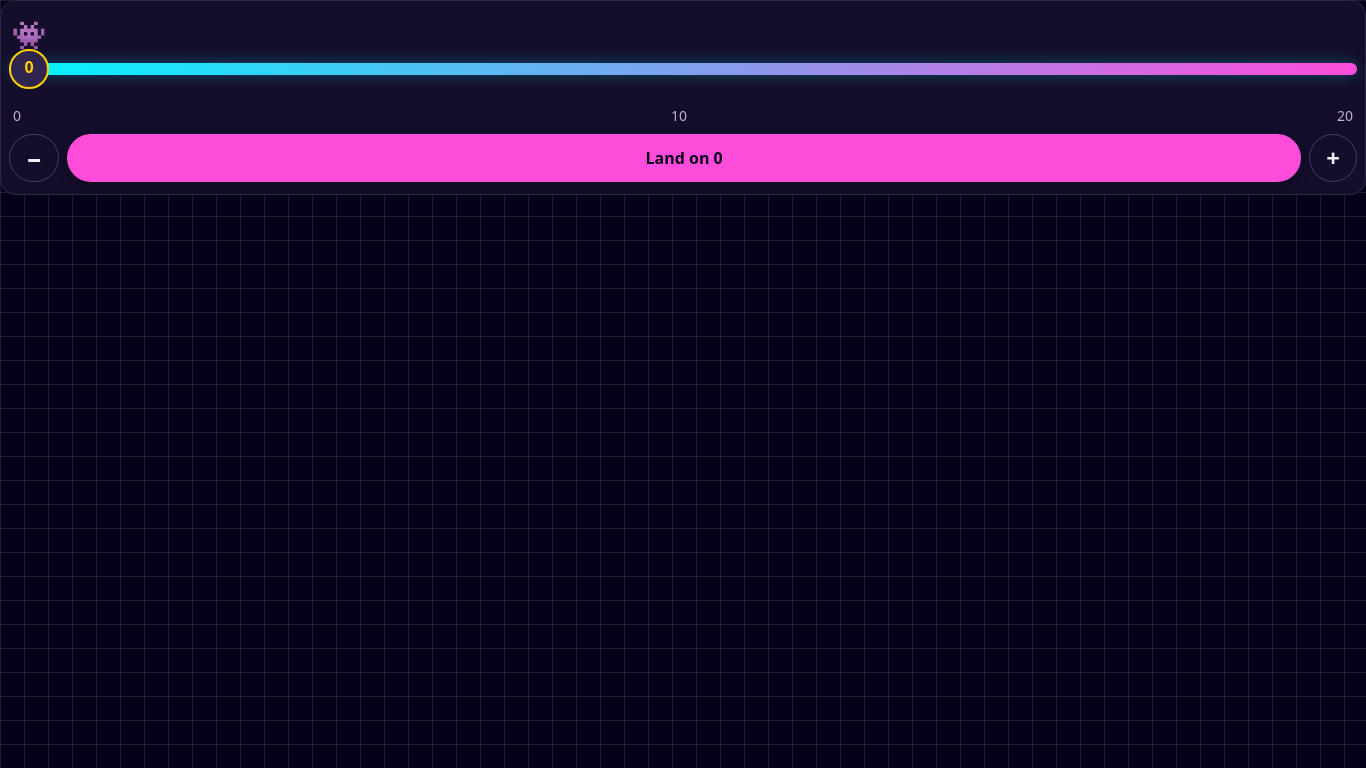
Test: BeamSlider › moves the alien one step at a time with the nudge buttons
Click the button named "One step on" at (1333, 158), box x1=1309 y1=134 x2=1357 y2=182
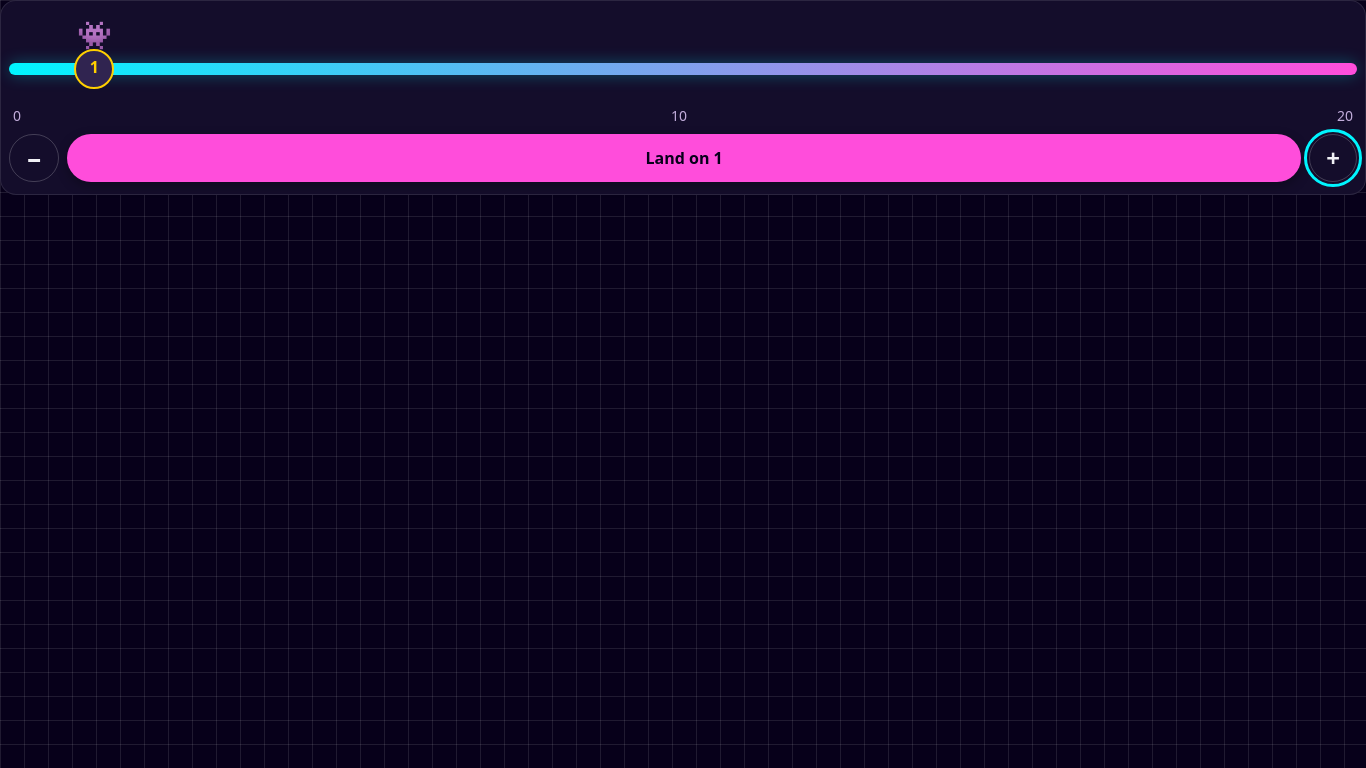
Click the button named "One step on" at (1333, 158), box x1=1309 y1=134 x2=1357 y2=182
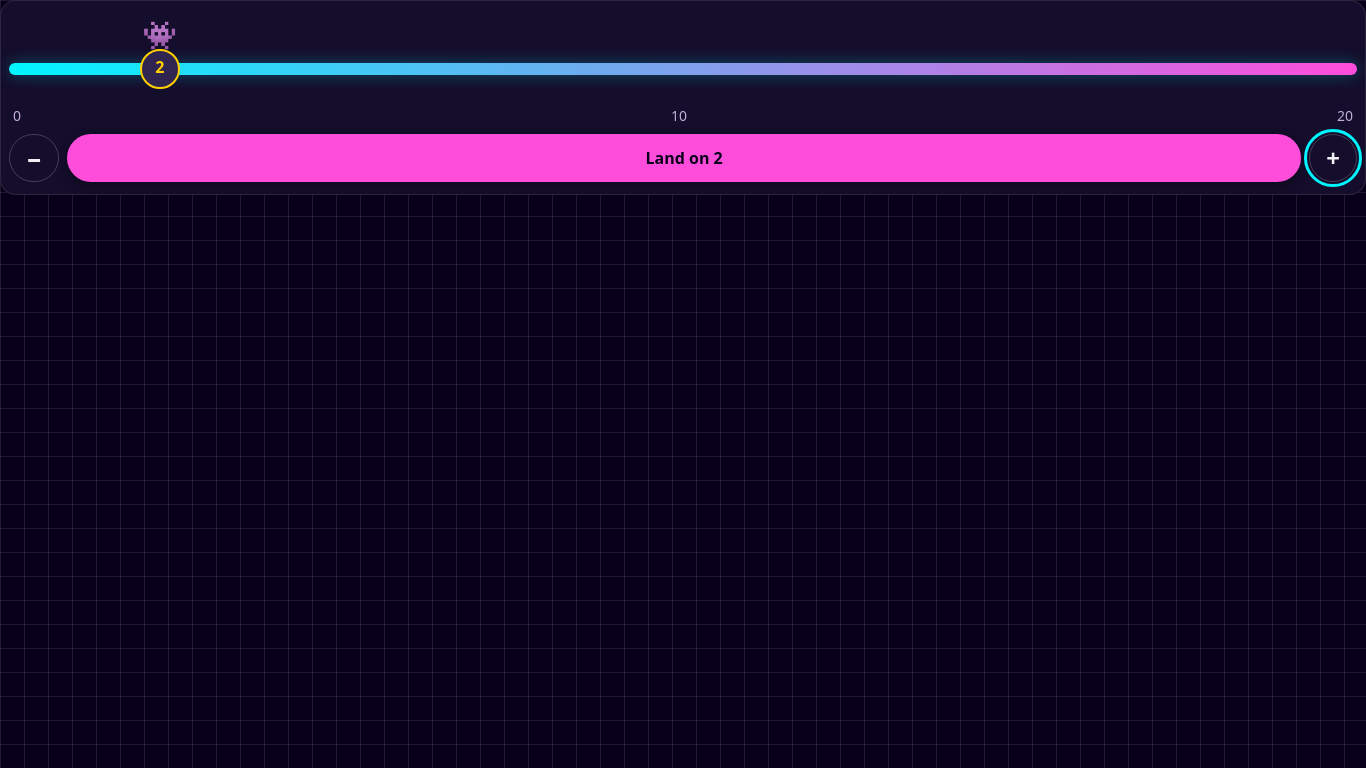
Expected: the button "Land on 2" is shown, x1=67 y1=134 x2=1301 y2=182
Click the button named "One step back" at (34, 158), box x1=9 y1=134 x2=59 y2=182
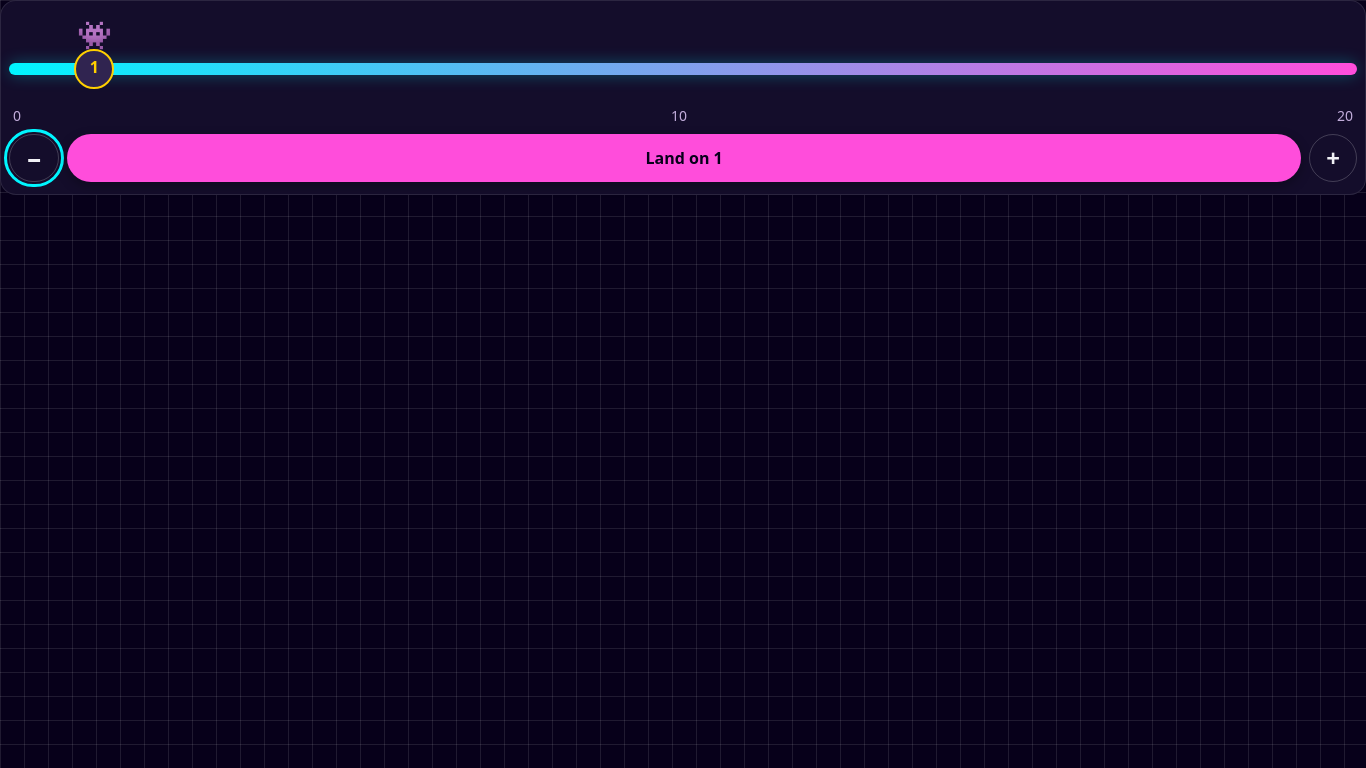
Expected: the button "Land on 1" is shown, x1=67 y1=134 x2=1301 y2=182
